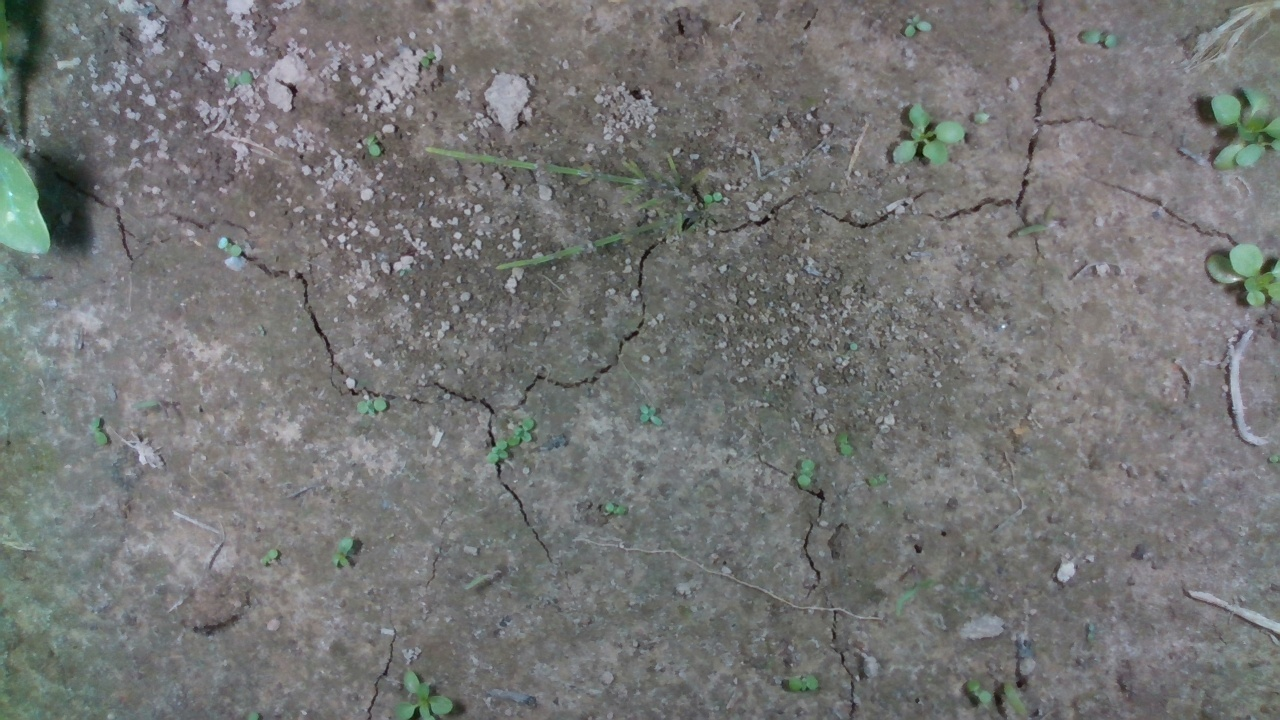weed: (900, 10, 947, 50), (332, 533, 356, 577), (221, 234, 252, 264), (356, 392, 385, 422), (635, 401, 667, 428), (257, 545, 284, 570), (798, 455, 815, 493), (367, 133, 385, 158)
